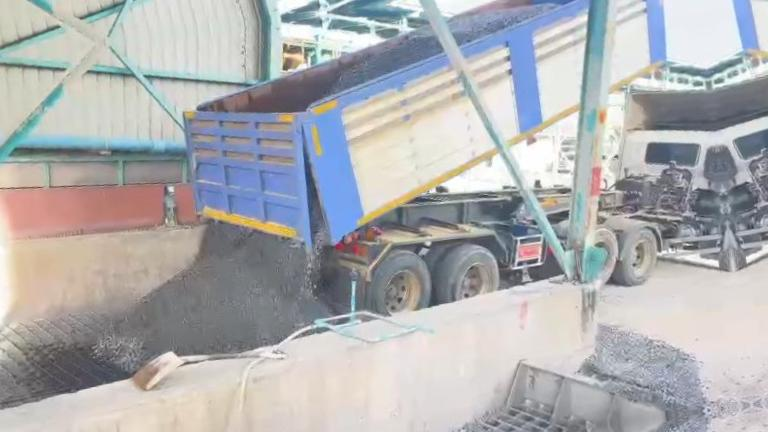gravel: (95, 222, 328, 371), (583, 324, 707, 415), (326, 28, 442, 94), (448, 3, 557, 44)
